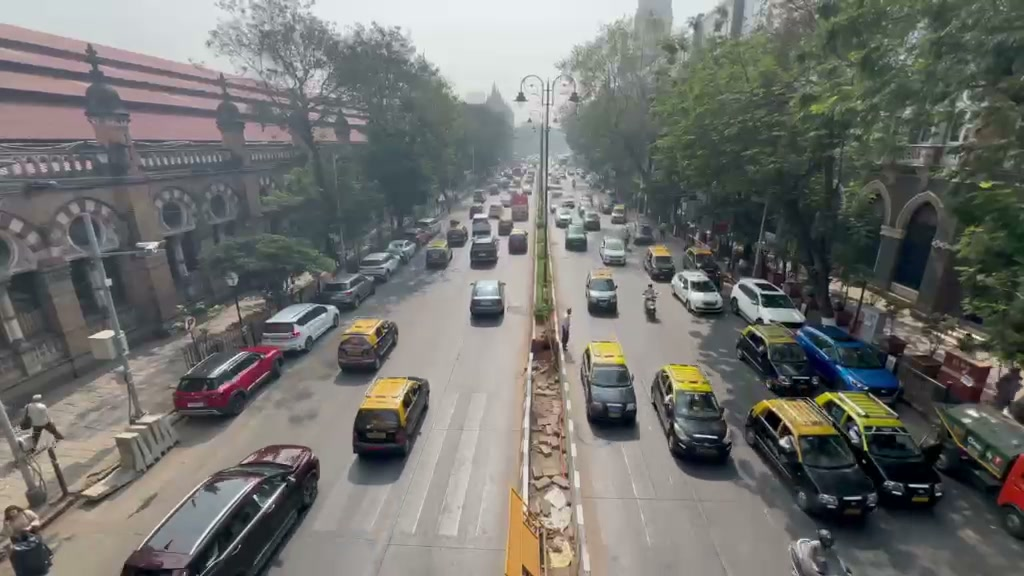bus: (468, 217, 498, 267)
car: (120, 447, 321, 575), (743, 394, 878, 524), (794, 322, 905, 404), (171, 344, 285, 418), (649, 362, 731, 462), (351, 374, 431, 458), (735, 322, 816, 397), (580, 340, 637, 425), (260, 303, 341, 354), (732, 278, 806, 326), (337, 317, 400, 373), (994, 449, 1024, 539), (671, 269, 725, 316), (316, 270, 376, 311), (469, 279, 506, 323), (586, 273, 618, 316), (357, 252, 400, 283), (385, 239, 417, 262), (425, 245, 452, 270)
pedestrian: (0, 506, 54, 576), (22, 393, 63, 453)
truck: (744, 395, 879, 524), (810, 388, 945, 506), (932, 400, 1023, 490)
